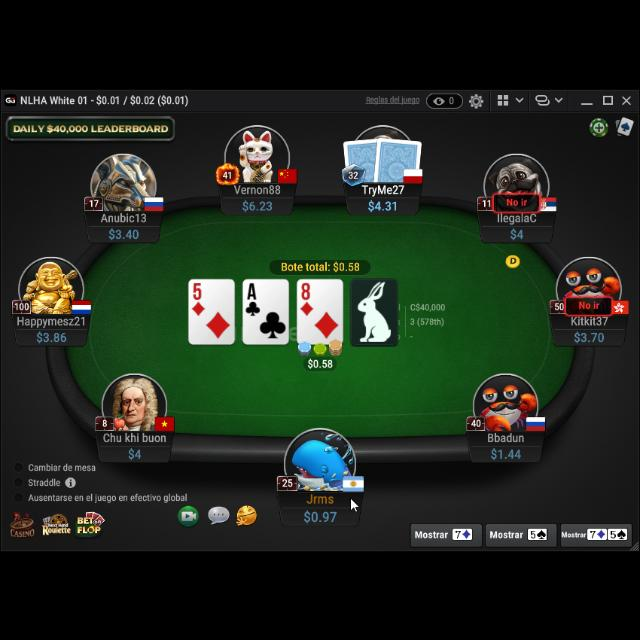5d: (190, 279, 206, 315)
8d: (299, 278, 315, 316)
Ac: (243, 278, 263, 316)
bet_text: (306, 354, 334, 368)
card_back: (373, 132, 423, 182), (341, 134, 385, 182)
dealer: (504, 250, 522, 266)
pot_text: (280, 256, 360, 270)
stack_text: (302, 504, 338, 522), (106, 223, 140, 239), (242, 195, 274, 211), (574, 328, 606, 344), (490, 446, 522, 460), (36, 329, 68, 343), (367, 196, 398, 210), (128, 445, 142, 459), (510, 223, 524, 237)
